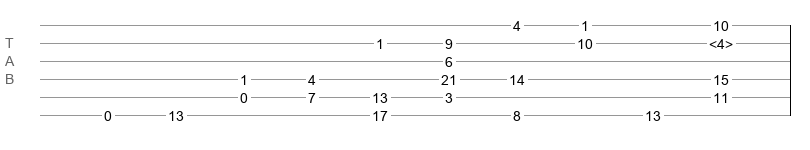0: (104, 108, 112, 118), (240, 90, 248, 100)
1: (240, 72, 248, 82), (376, 36, 384, 46), (581, 18, 589, 28)
10: (577, 36, 593, 46), (713, 18, 729, 28)
11: (713, 90, 729, 100)
13: (168, 108, 184, 118), (372, 90, 388, 100), (645, 108, 661, 118)
14: (509, 72, 525, 82)
15: (713, 72, 729, 82)
17: (372, 108, 388, 118)
21: (441, 72, 457, 82)
3: (445, 90, 453, 100)
4: (308, 72, 316, 82), (513, 18, 521, 28)
6: (445, 54, 453, 64)
7: (308, 90, 316, 100)
8: (513, 108, 521, 118)
9: (445, 36, 453, 46)
harmonic: (709, 36, 733, 46)
